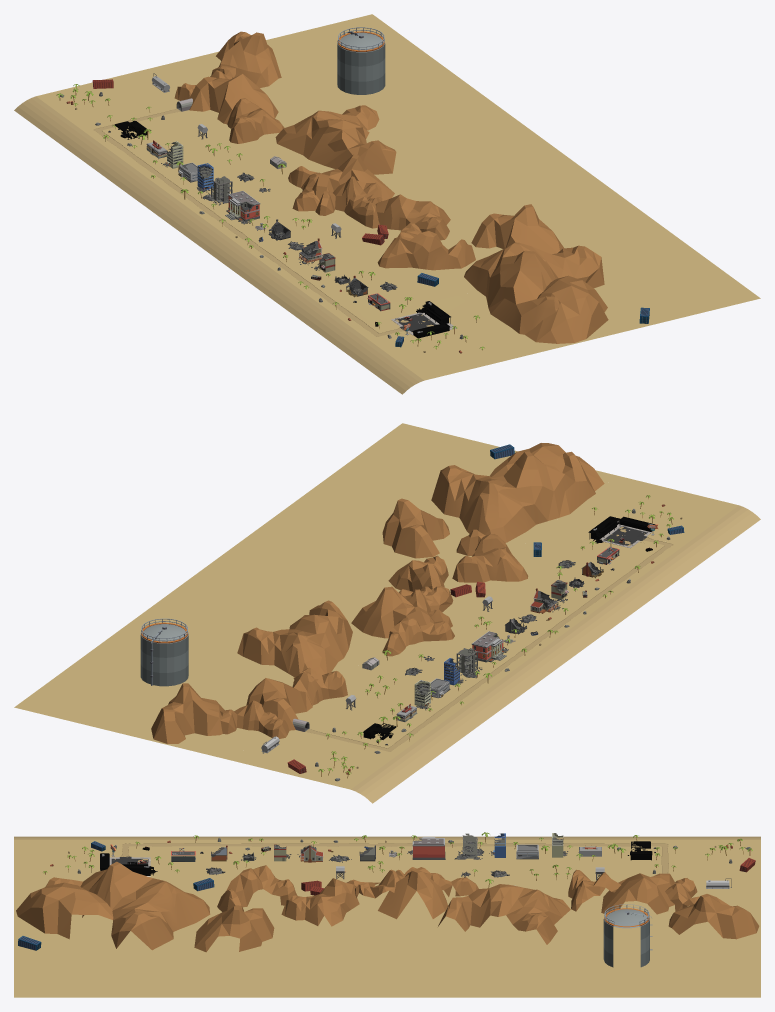
The model's file is _lvl_desert_bg_2.glb.
3 views of the same model, one above another, from view 1: azimuth 30°, elevation 25°; view 2: azimuth 150°, elevation 25°; view 3: azimuth 270°, elevation 25° (orthographic). The views are drawn at different scales.
Parts seen in each view (by area): view 1: bg_ground_far_2, SM_Env_Hills_Pack_2, bg_ground_2, bg_near_plane_desert, Prop_FuelSilo_01_Big, Road_Full_2_part_2, Road_Full_2_part_3, SA_Bld_TownHall_Damaged_01, Road_Full_2_part_4; view 2: bg_ground_far_2, SM_Env_Hills_Pack_2, bg_ground_2, bg_near_plane_desert, Prop_FuelSilo_01_Big, Road_Full_2_part_2, Road_Full_2_part_3, Road_Full_2_part_4, SA_Bld_TownHall_Damaged_01; view 3: bg_ground_far_2, SM_Env_Hills_Pack_2, bg_ground_2, bg_near_plane_desert, Prop_FuelSilo_01_Big, Road_Full_2_part_3, Road_Full_2_part_2, SA_Bld_TownHall_Damaged_01, SA_Bld_Building_Damaged_01, Road_Full_2_part_4, SA_Bld_PetrolStation_Damaged_01, SA_Bld_HospitalOffice_Damaged_01 (+1 smaller).
Part boxes in pixels (bbox=[...]): bg_ground_far_2: bbox=[157, 14, 760, 350]; SM_Env_Hills_Pack_2: bbox=[174, 31, 608, 343]; bg_ground_2: bbox=[36, 67, 544, 380]; bg_near_plane_desert: bbox=[14, 96, 423, 394]; Prop_FuelSilo_01_Big: bbox=[337, 27, 385, 94]; Road_Full_2_part_2: bbox=[92, 127, 255, 244]; Road_Full_2_part_3: bbox=[249, 242, 383, 337]; SA_Bld_TownHall_Damaged_01: bbox=[225, 191, 260, 224]; Road_Full_2_part_4: bbox=[380, 312, 456, 335]; bg_ground_far_2: bbox=[14, 423, 617, 759]; SM_Env_Hills_Pack_2: bbox=[151, 443, 604, 743]; bg_ground_2: bbox=[230, 476, 738, 789]; bg_near_plane_desert: bbox=[351, 505, 760, 803]; Prop_FuelSilo_01_Big: bbox=[140, 618, 188, 686]; Road_Full_2_part_2: bbox=[383, 636, 547, 752]; Road_Full_2_part_3: bbox=[540, 542, 674, 637]; Road_Full_2_part_4: bbox=[590, 521, 667, 548]; SA_Bld_TownHall_Damaged_01: bbox=[471, 631, 508, 662]; bg_ground_far_2: bbox=[14, 896, 760, 997]; SM_Env_Hills_Pack_2: bbox=[16, 861, 759, 952]; bg_ground_2: bbox=[14, 839, 760, 896]; bg_near_plane_desert: bbox=[14, 836, 760, 839]; Prop_FuelSilo_01_Big: bbox=[603, 904, 652, 967]; Road_Full_2_part_3: bbox=[121, 843, 366, 846]; Road_Full_2_part_2: bbox=[367, 843, 669, 846]; SA_Bld_TownHall_Damaged_01: bbox=[407, 837, 445, 859]; SA_Bld_Building_Damaged_01: bbox=[454, 833, 483, 859]; Road_Full_2_part_4: bbox=[109, 847, 150, 876]; SA_Bld_PetrolStation_Damaged_01: bbox=[627, 841, 652, 860]; SA_Bld_HospitalOffice_Damaged_01: bbox=[516, 844, 538, 859].
Size of the model in its own units: 240 by 38.47 by 450.
Materials: 1 (1 with a texture image).
